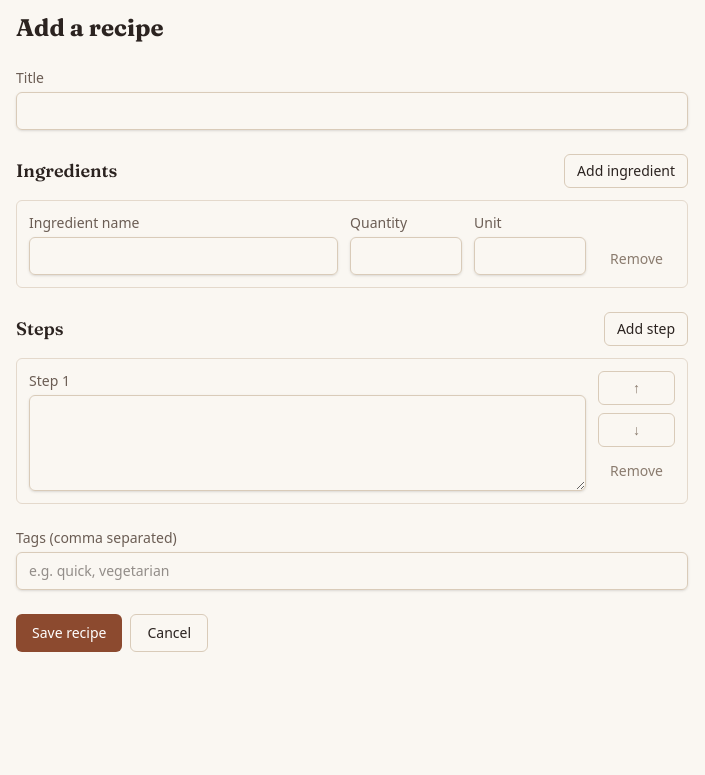
Scenario: RecipeForm — create (AC1) › does not lose entered values when the API rejects the save (AC6)
Type "Tomato Soup" into the field labelled "Title" at [352, 111], box [16,92,688,130]
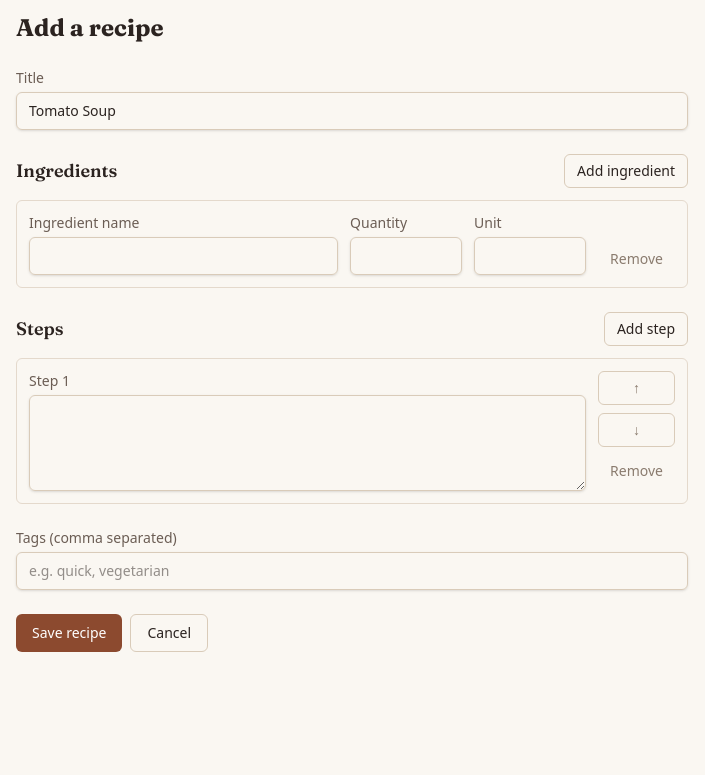
Type "Tomato" into the field labelled "Ingredient name" at [184, 256], box [29,237,338,275]
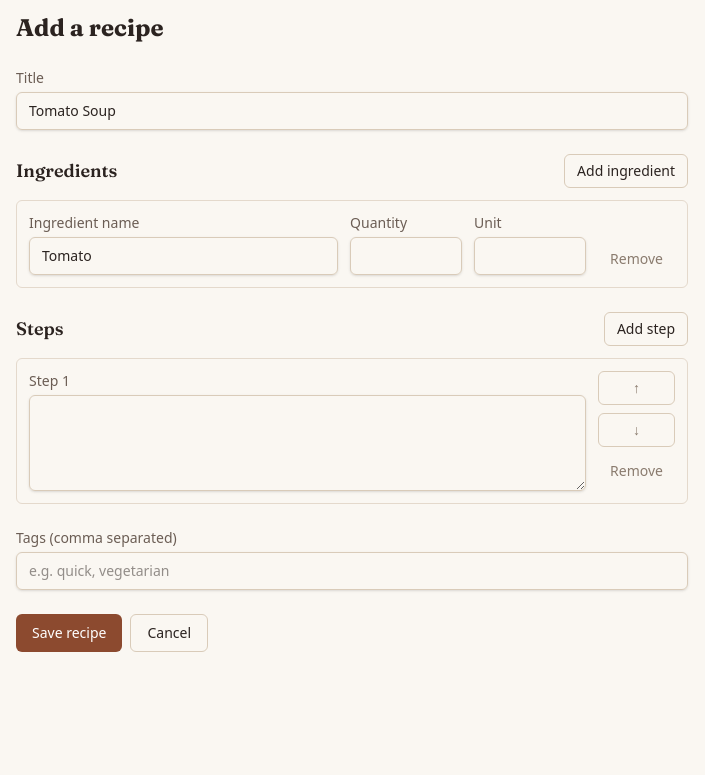
Type "4" into the field labelled "Quantity" at [406, 256], box [350,237,462,275]
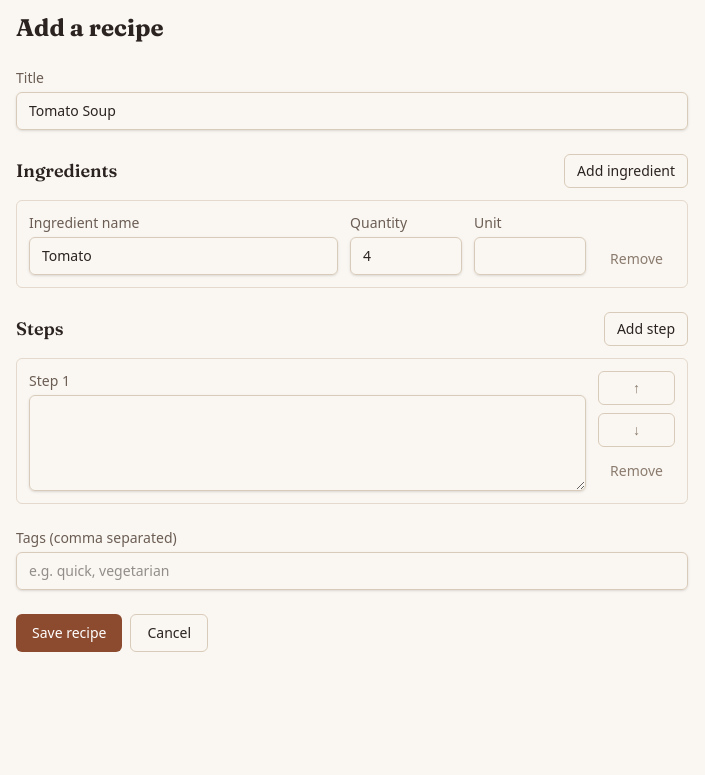
Type "whole" into the field labelled "Unit" at [530, 256], box [474,237,586,275]
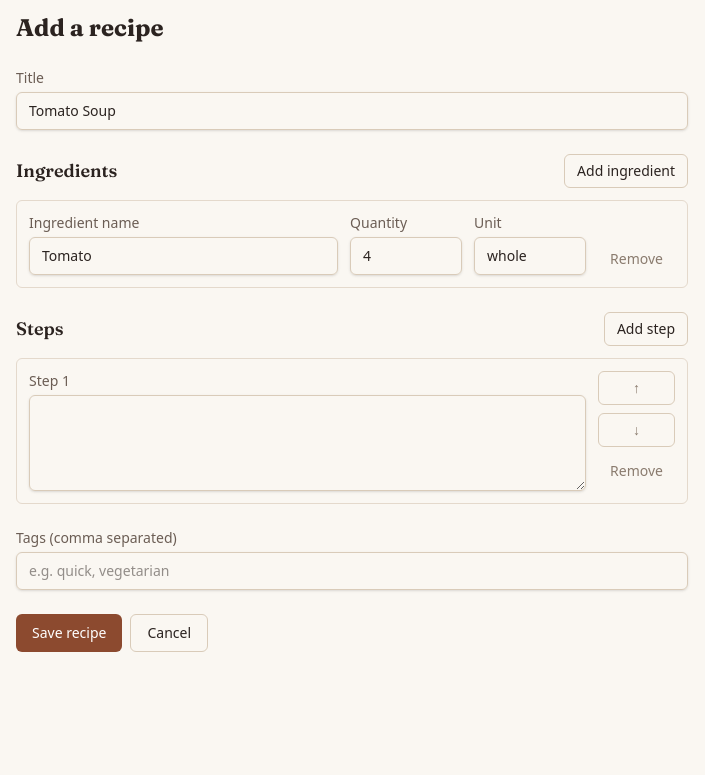
Type "Simmer" into the text box labelled "Step 1" at [308, 443], box [29,395,586,491]
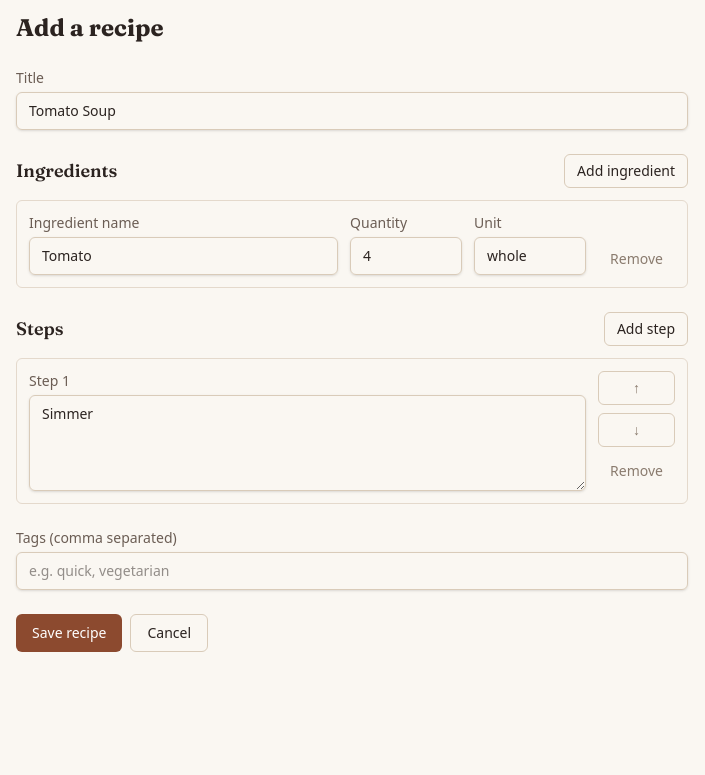
Click the button "Save recipe" at [69, 633], box [16,614,122,652]
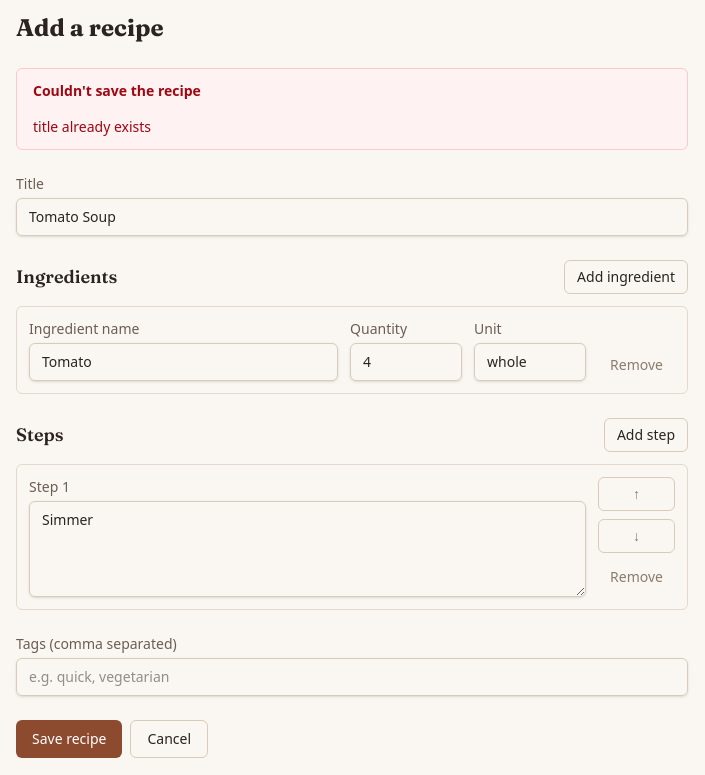
Check: the text "title already exists" is shown, box [33,117,151,137]
